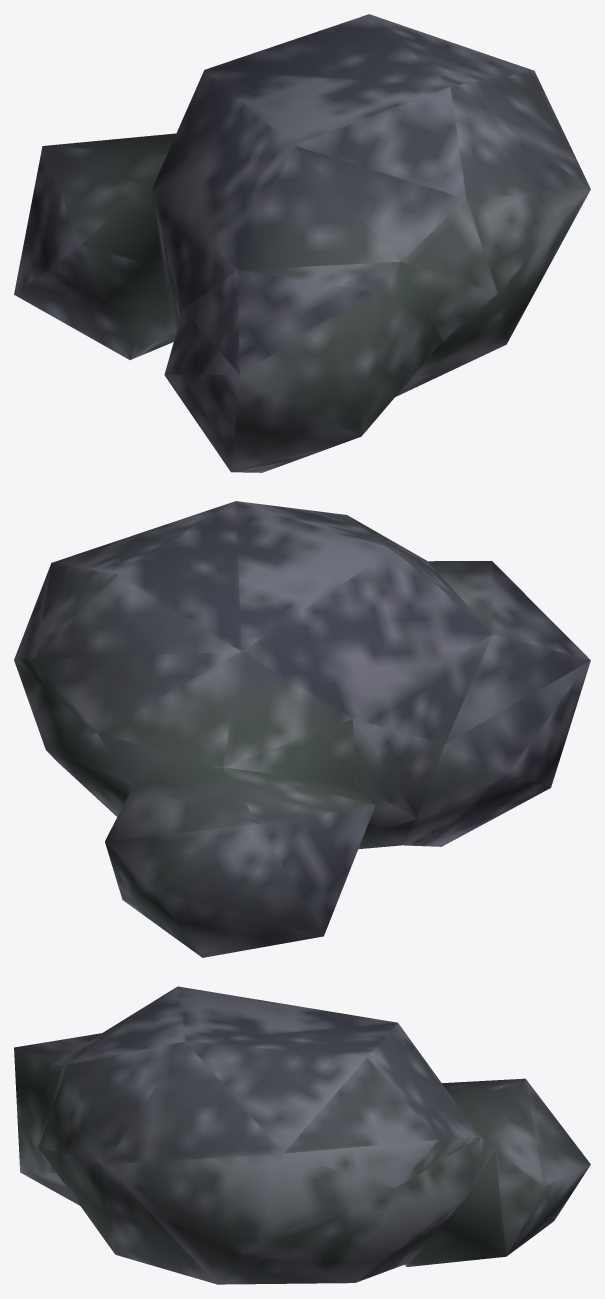
The model's file is Rock_04.fbx.
3 renders of one model, top to bottom at view 1: azimuth 30°, elevation 25°; view 2: azimuth 150°, elevation 25°; view 3: azimuth 270°, elevation 25°, orthographic. The views are drawn at different scales.
Visible parts, largest first — view 1: Rock_04; view 2: Rock_04; view 3: Rock_04.
Part boxes in pixels (x1,y1,x2,y2): Rock_04: (14, 14, 590, 472); Rock_04: (14, 501, 590, 957); Rock_04: (14, 986, 590, 1284).
Size of the model in its own units: 368 by 257 by 466.
Materials: 1 (1 with a texture image).
